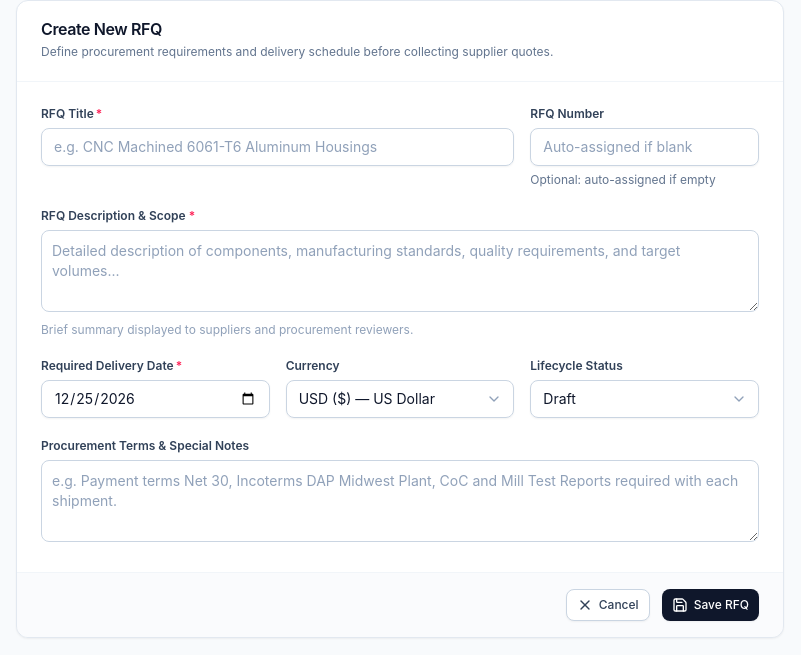
it: RfqForm Component and Form Validation › validates minimum title length and blocks submission
The image size is (801, 655).
# Enter only 1 character
Type "A" into the field labelled "RFQ Title*".
click(278, 147); type("A")  # box [41,128,514,166]
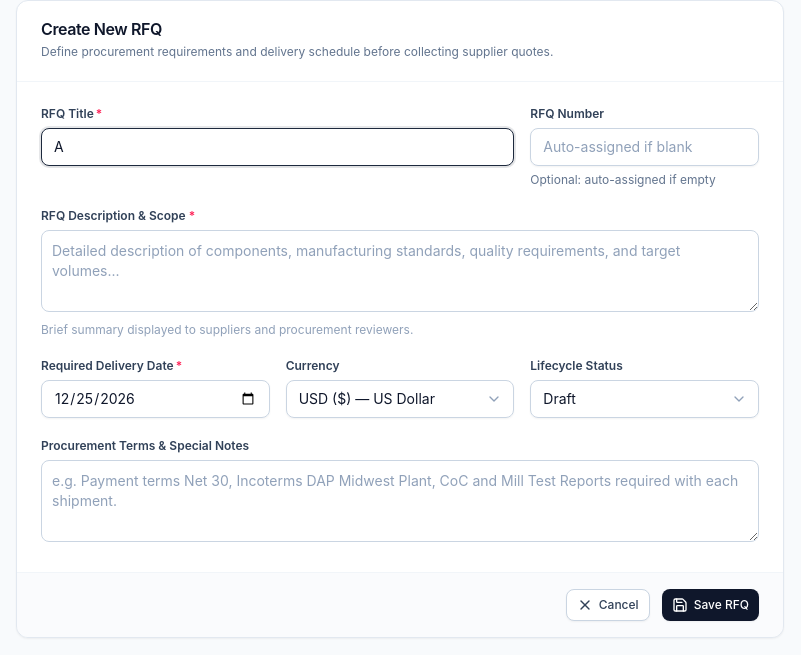
Click the button "Save RFQ".
click(710, 605)  # box [662,589,759,621]
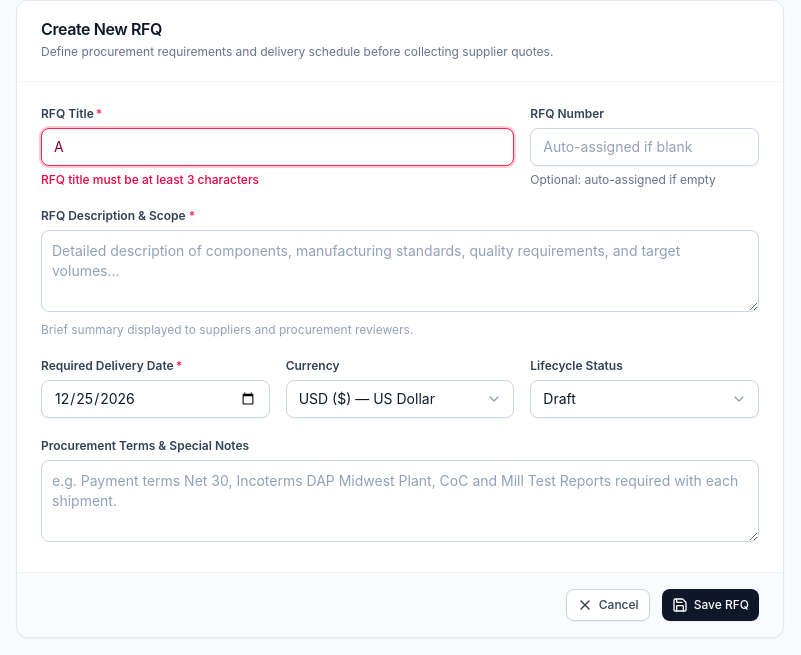
Expected: the text "RFQ title must be at least 3 characters" is shown, [41,172,259,187]
